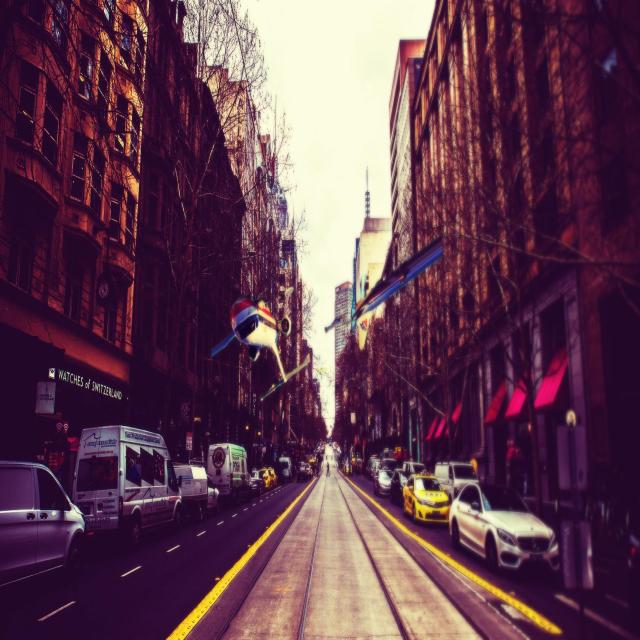airplane: (210, 288, 311, 402), (323, 237, 442, 332)
